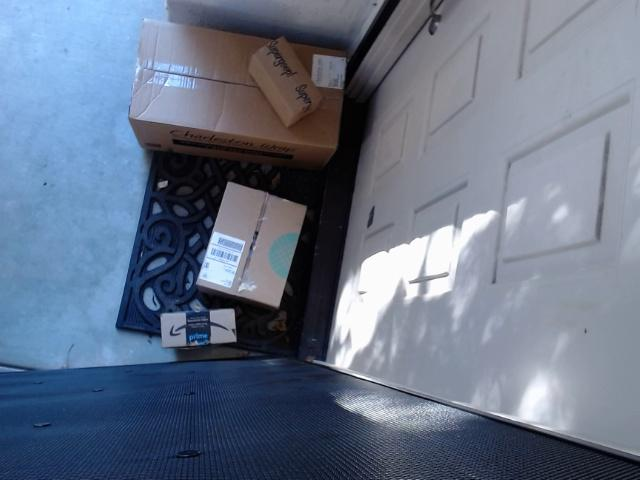box: (108, 21, 388, 167), (178, 166, 333, 317), (139, 298, 286, 370), (230, 29, 345, 118)
